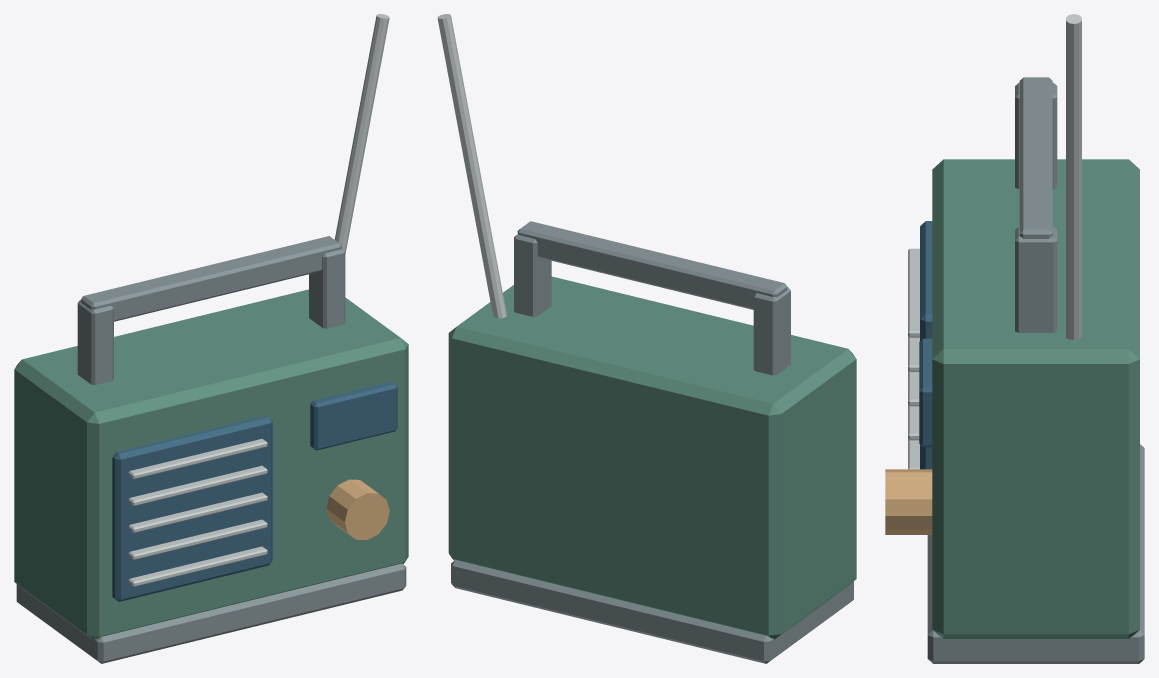
The picture shows the model from 3 angles, left to right: view 1: azimuth 30°, elevation 25°; view 2: azimuth 150°, elevation 25°; view 3: azimuth 270°, elevation 25°; orthographic projection. The views are drawn at different scales.
Parts seen in each view (by area): view 1: communications-portable-radio-01; view 2: communications-portable-radio-01; view 3: communications-portable-radio-01.
Part boxes in pixels (box(x1,y1,x2,y2)): communications-portable-radio-01: box(14, 14, 408, 663); communications-portable-radio-01: box(437, 14, 856, 663); communications-portable-radio-01: box(885, 14, 1144, 663).
Bounding box in the file's own units: 0.5488 × 0.7818 × 0.275.
